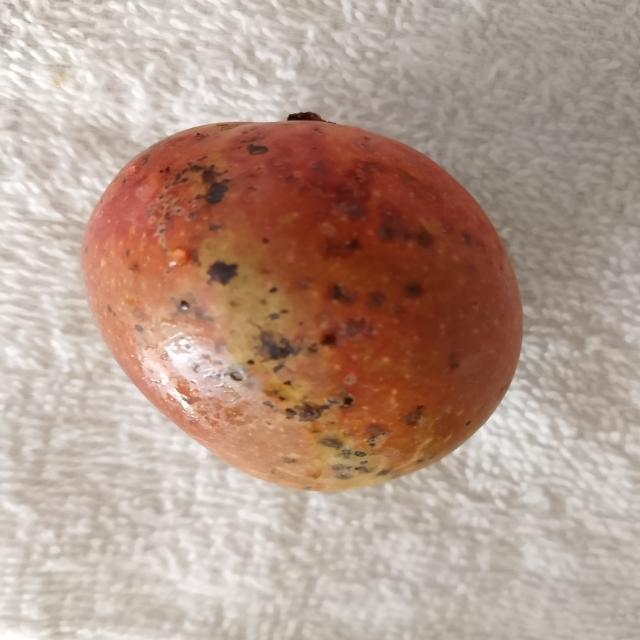mango: (81, 105, 531, 492)
